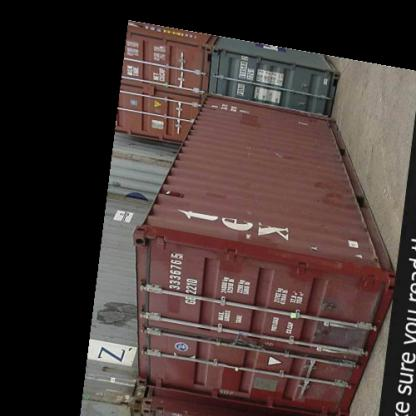Damage: (330, 324, 372, 352), (238, 140, 255, 162), (266, 145, 284, 165), (157, 184, 177, 200), (297, 116, 308, 133), (305, 242, 319, 252)
